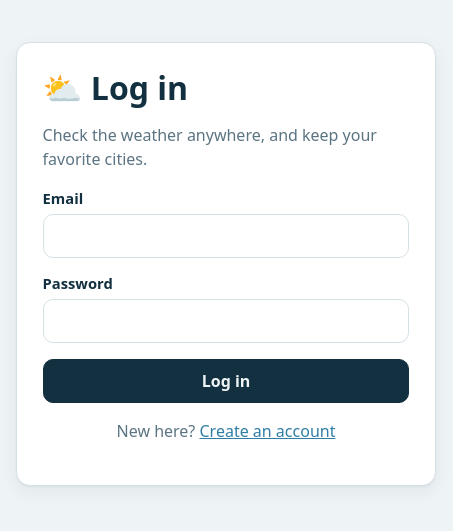
Test case: Login form › validates required fields
The width and height of the screenshot is (453, 531).
Click the button "Log in".
click(226, 381)  # box x1=43 y1=359 x2=409 y2=403
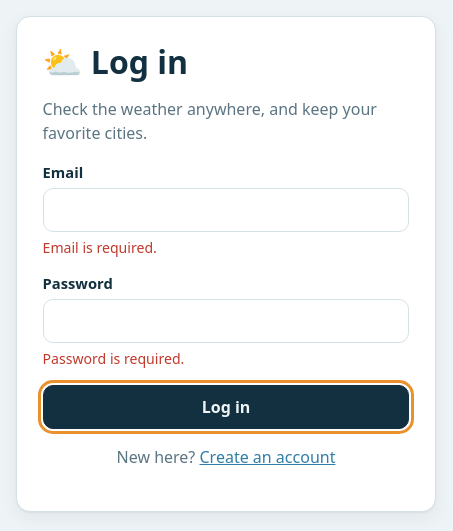
Check: the text "Email is required." is shown, box x1=43 y1=238 x2=157 y2=257
Check: the text "Password is required." is shown, box x1=43 y1=349 x2=184 y2=368
